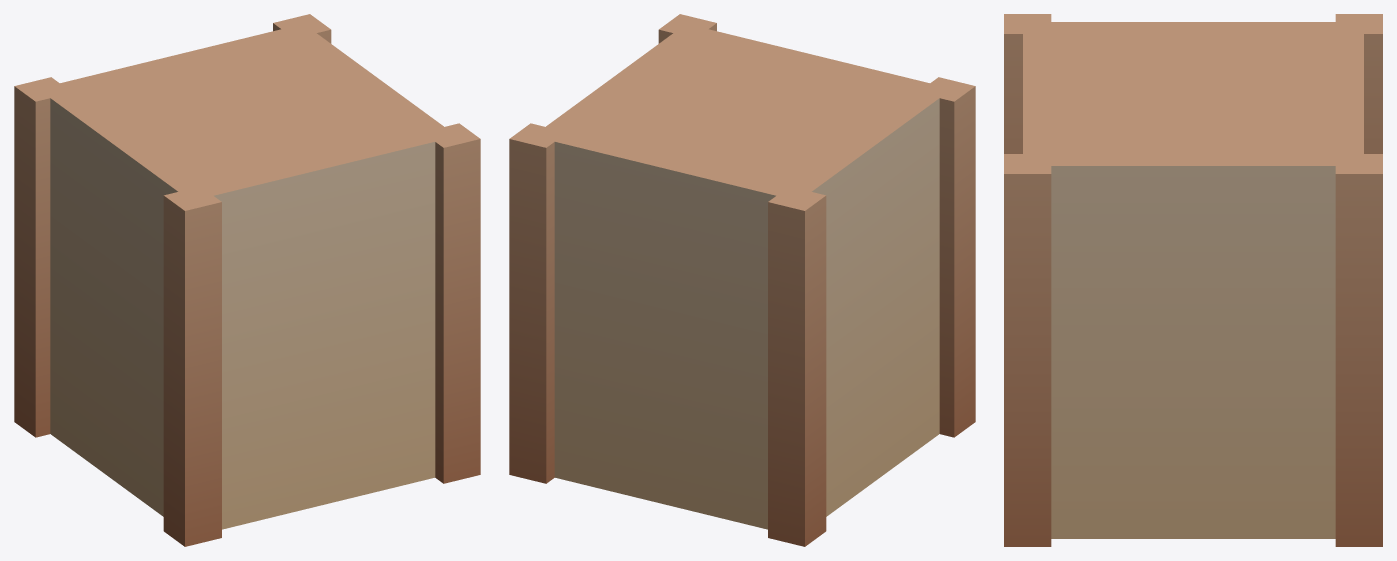
File: tower-square-mid.glb
The picture shows the model from 3 angles, left to right: view 1: azimuth 30°, elevation 25°; view 2: azimuth 150°, elevation 25°; view 3: azimuth 270°, elevation 25°; orthographic projection. The views are drawn at different scales.
Parts seen in each view (by area): view 1: tower-square-mid; view 2: tower-square-mid; view 3: tower-square-mid.
Part boxes in pixels (bbox=[...]): tower-square-mid: bbox=[14, 14, 480, 546]; tower-square-mid: bbox=[509, 14, 975, 546]; tower-square-mid: bbox=[1004, 14, 1382, 546].
Bounding box in the file's own units: 0.93 × 1.01 × 0.93.
